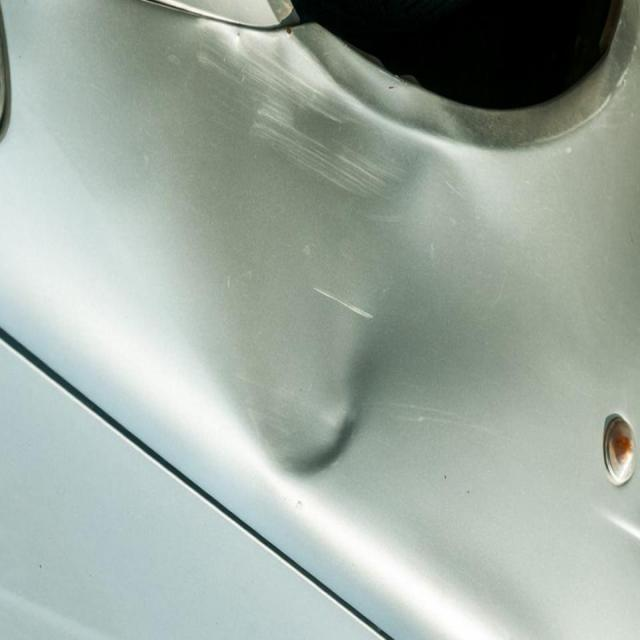dent: (232, 326, 402, 494)
